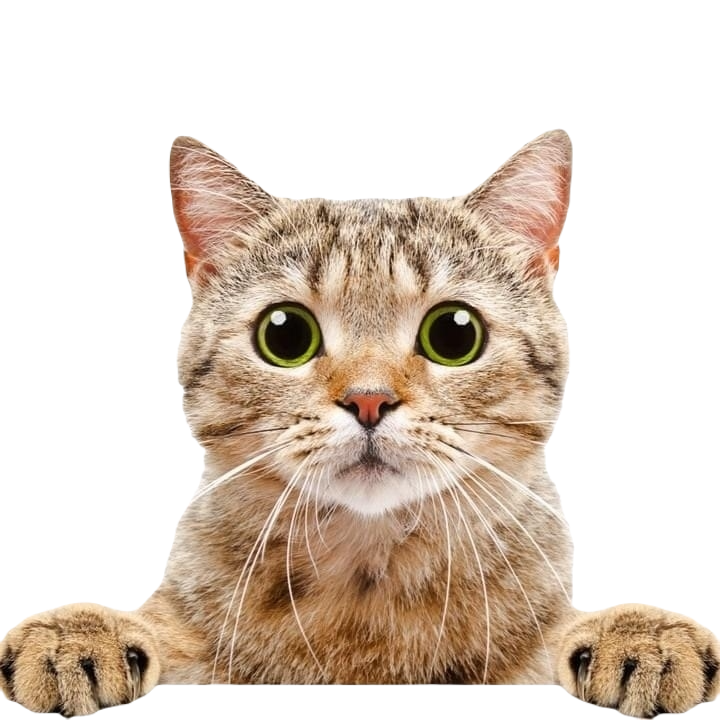Cat: (0, 80, 719, 719)
